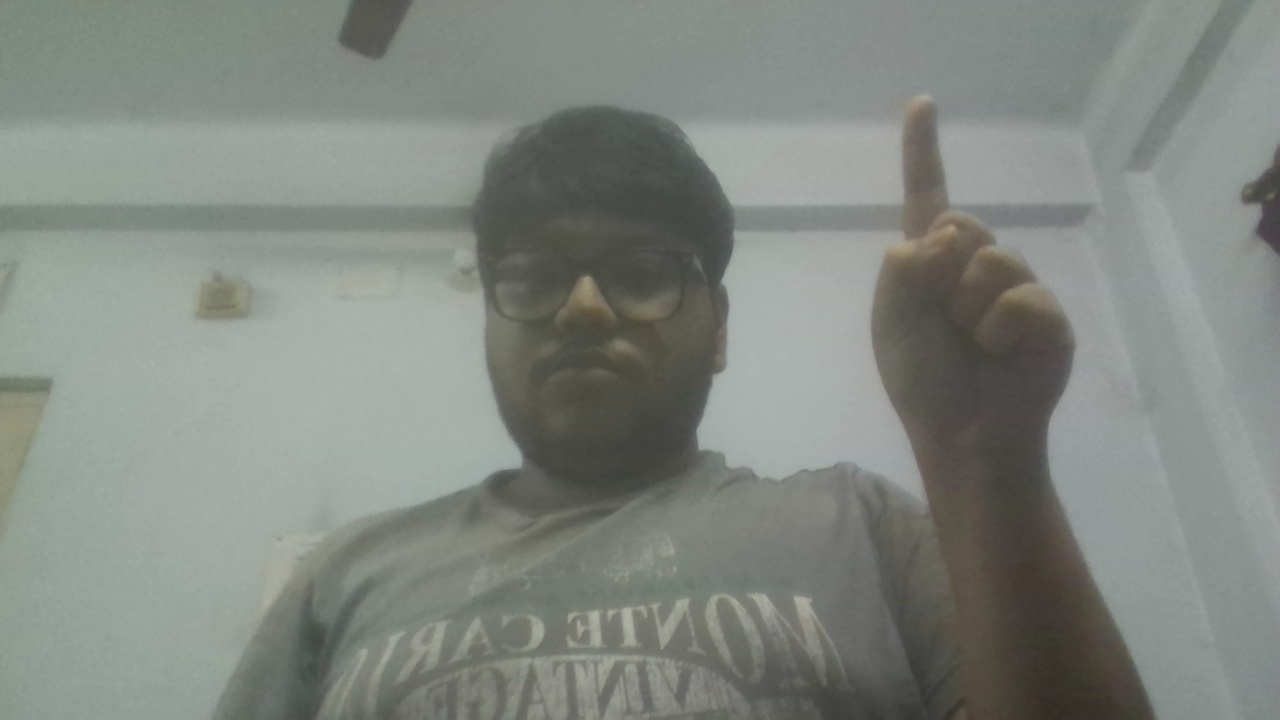Gesture1: (857, 85, 1087, 467)
